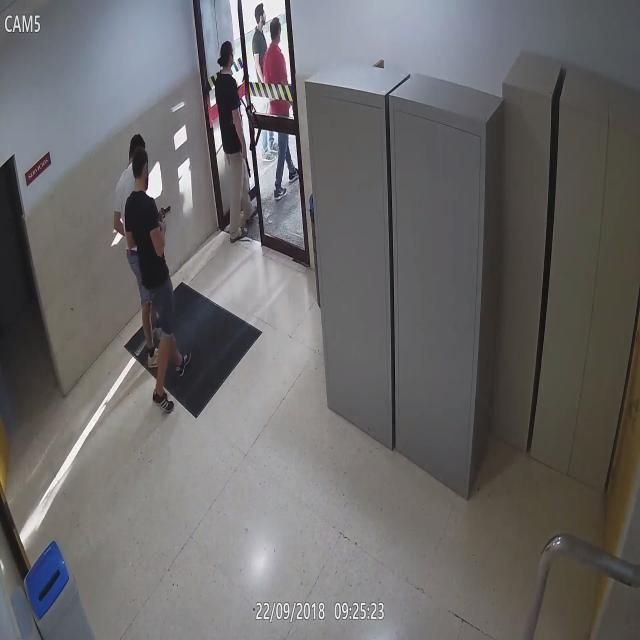pistol: (241, 141, 252, 180), (157, 202, 172, 226)
